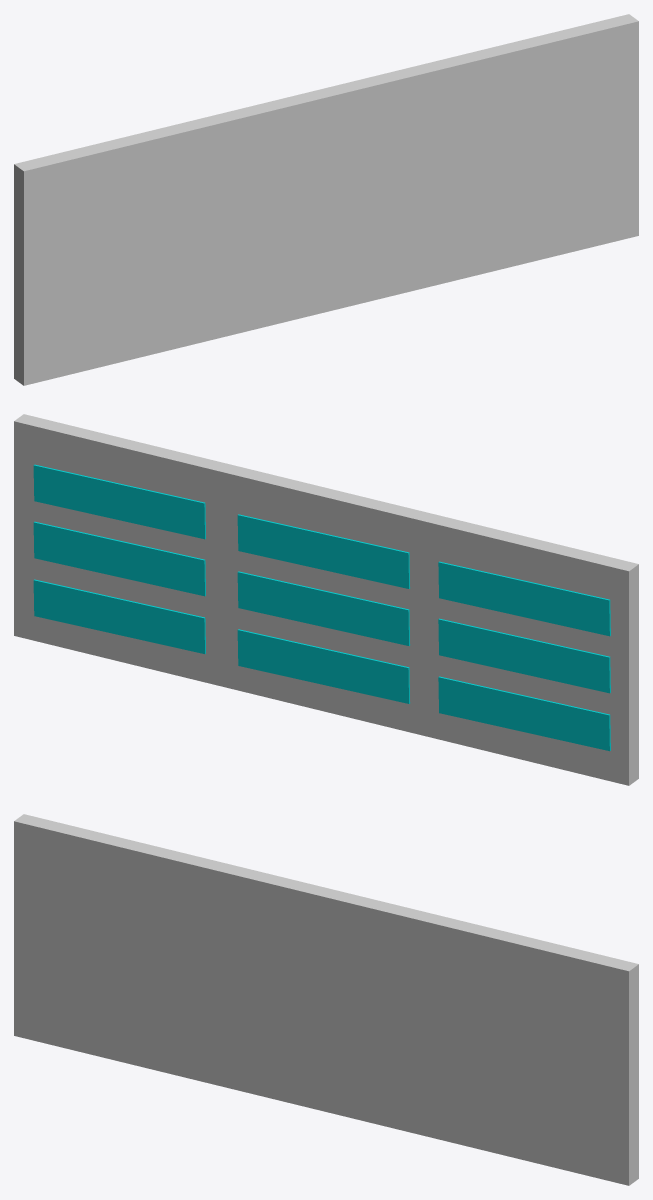
The picture shows the model from 3 angles, top to bottom: view 1: azimuth 30°, elevation 25°; view 2: azimuth 150°, elevation 25°; view 3: azimuth 330°, elevation 25°; orthographic projection.
Visible parts, largest first — view 1: BuildingWork; view 2: BuildingWork; view 3: BuildingWork.
Boxes of the visible parts, box(x1,y1,x2,y2) form: BuildingWork: box(14, 14, 638, 385); BuildingWork: box(14, 414, 638, 785); BuildingWork: box(14, 814, 638, 1185).
Bounding box in the file's own units: 3600 × 111 × 1200.
